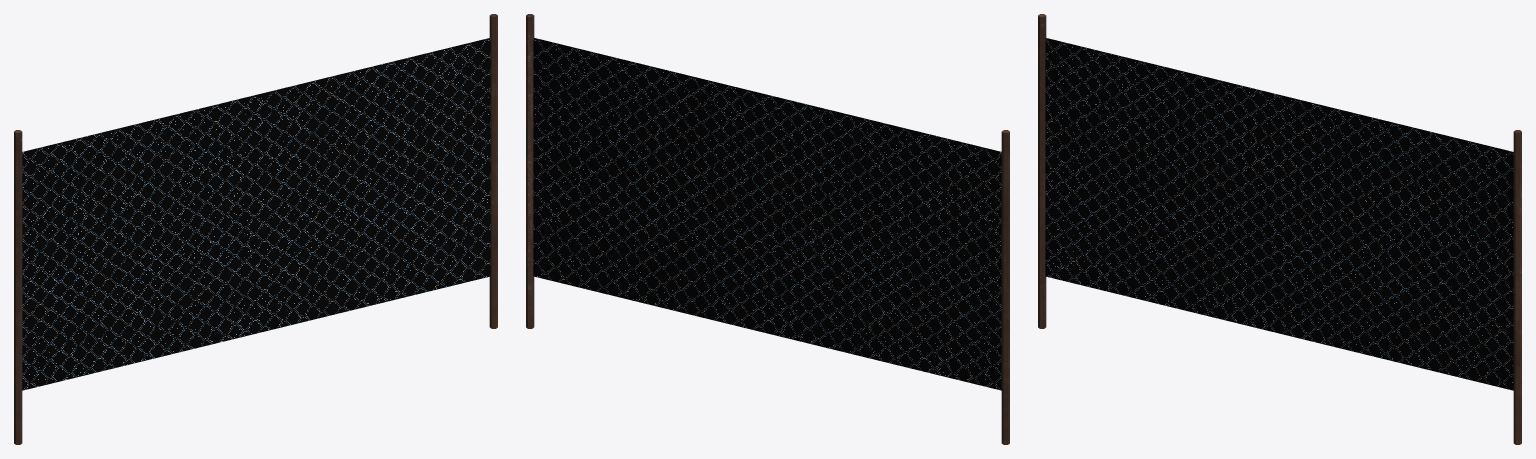
The model's file is metalfence_both_sides_no_topbar.glb.
The picture shows the model from 3 angles, left to right: view 1: azimuth 30°, elevation 25°; view 2: azimuth 150°, elevation 25°; view 3: azimuth 330°, elevation 25°; orthographic projection.
Parts seen in each view (by area): view 1: metalfence_both_sides_no_topbar; view 2: metalfence_both_sides_no_topbar; view 3: metalfence_both_sides_no_topbar.
Part boxes in pixels (x1,y1,x2,y2): metalfence_both_sides_no_topbar: [14, 14, 497, 444]; metalfence_both_sides_no_topbar: [526, 14, 1009, 444]; metalfence_both_sides_no_topbar: [1038, 14, 1521, 444].
Bounding box in the file's own units: 2.7 × 1.67 × 0.04.
2 materials, 2 textured.
